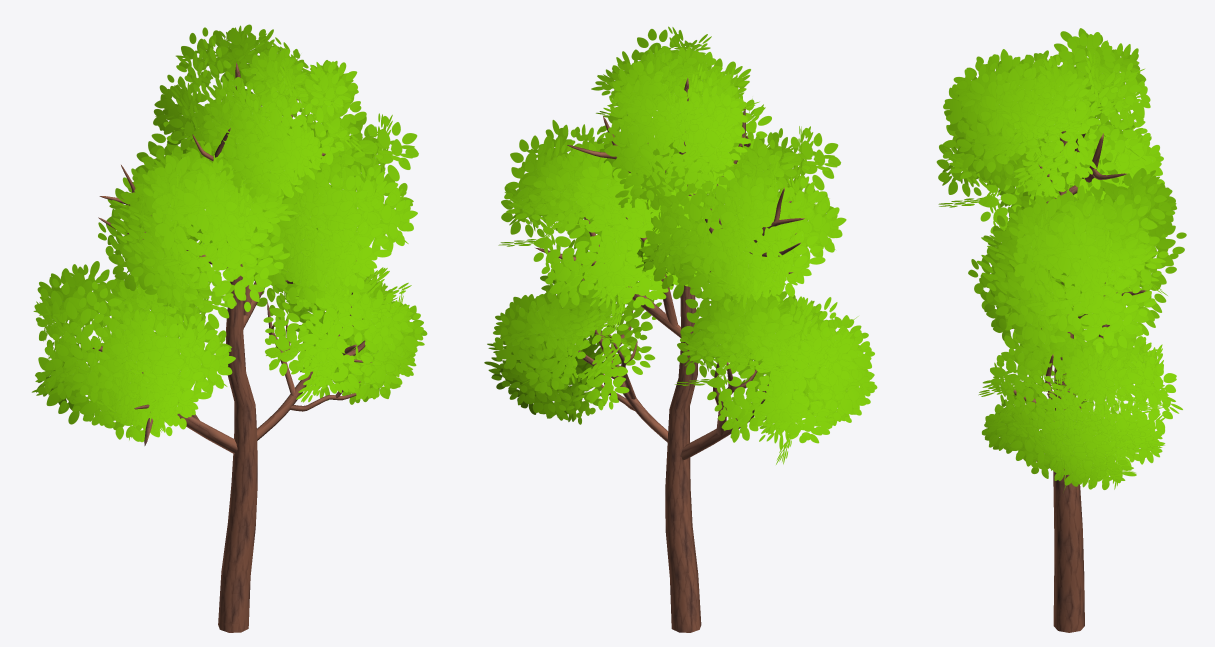
The model's file is Tree2.gltf.
3 renders of one model, left to right at view 1: azimuth 30°, elevation 25°; view 2: azimuth 150°, elevation 25°; view 3: azimuth 270°, elevation 25°, orthographic. The views are drawn at different scales.
Parts seen in each view (by area): view 1: NormalTree_2; view 2: NormalTree_2; view 3: NormalTree_2.
Boxes of the visible parts, x1,y1,x2,y2 form: NormalTree_2: (31,24,427,632); NormalTree_2: (484,26,877,632); NormalTree_2: (936,28,1186,632).
Bounding box in the file's own units: 4.55 × 6.56 × 2.79.
Materials: 2 (2 with a texture image).
